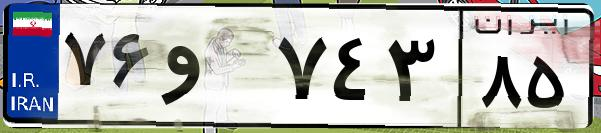3: (385, 28, 445, 110)
4: (330, 28, 385, 110)
5: (525, 38, 570, 115)
6: (110, 28, 158, 98)
7: (270, 28, 330, 110), (57, 26, 110, 100)
8: (475, 38, 525, 113)
و: (158, 20, 270, 120)
